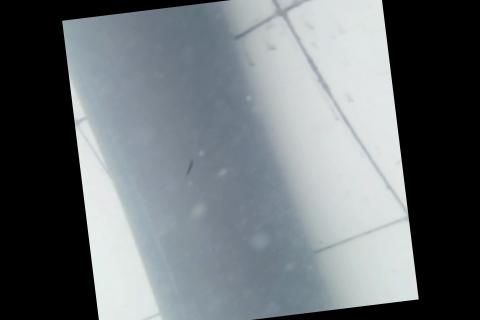keretakan: (179, 156, 201, 178)
